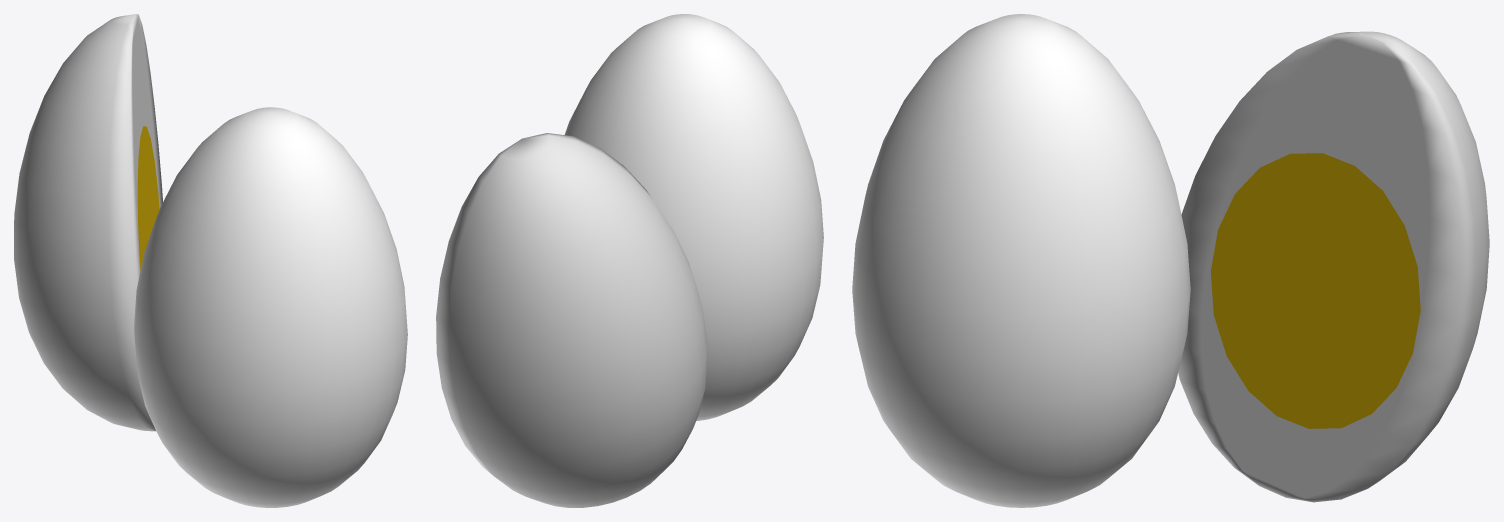
File: eggsgltf.gltf
3 views of the same model, side by side, from view 1: azimuth 30°, elevation 25°; view 2: azimuth 150°, elevation 25°; view 3: azimuth 270°, elevation 25° (orthographic). The views are drawn at different scales.
Visible parts, largest first — view 1: Sphere; view 2: Sphere; view 3: Sphere.
Boxes of the visible parts, x1,y1,x2,y2 form: Sphere: (14, 14, 407, 507); Sphere: (436, 14, 823, 507); Sphere: (852, 14, 1489, 507).
Size of the model in its own units: 2.01 by 3.1 by 3.77.
